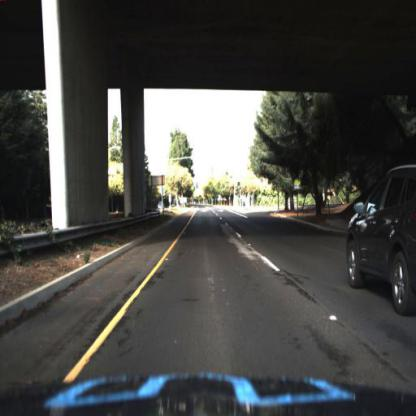car: (346, 168, 416, 320), (156, 199, 167, 214)
trafficLight-Green: (237, 180, 242, 198)
